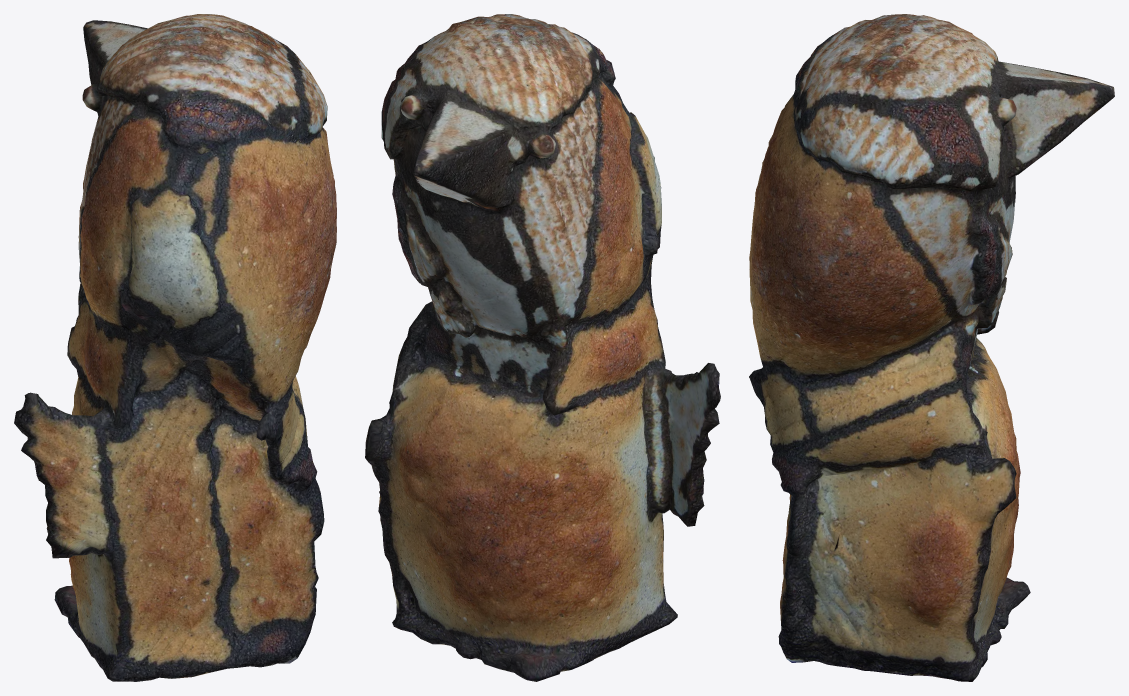
The picture shows the model from 3 angles, left to right: view 1: azimuth 30°, elevation 25°; view 2: azimuth 150°, elevation 25°; view 3: azimuth 270°, elevation 25°; orthographic projection. The views are drawn at different scales.
Visible parts, largest first — view 1: 1-10-4k; view 2: 1-10-4k; view 3: 1-10-4k.
Boxes of the visible parts, <box> form: 1-10-4k: <box>14,14,336,681</box>; 1-10-4k: <box>365,14,720,681</box>; 1-10-4k: <box>749,14,1114,681</box>.
Bounding box in the file's own units: 0.9192 × 1.7 × 0.9151.
1 material, 1 textured.
